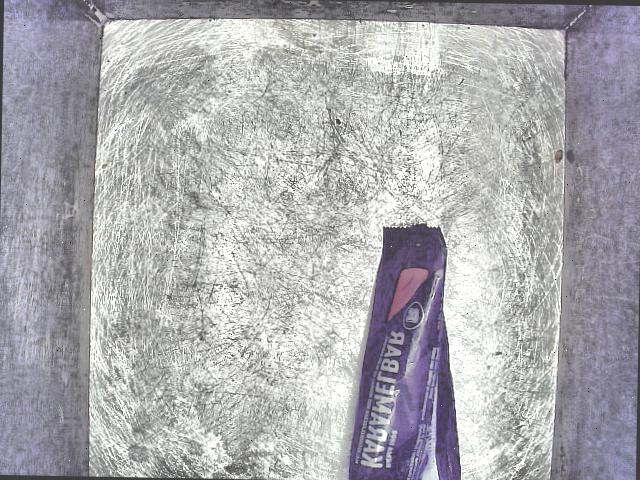Plastic: (330, 208, 480, 480)
